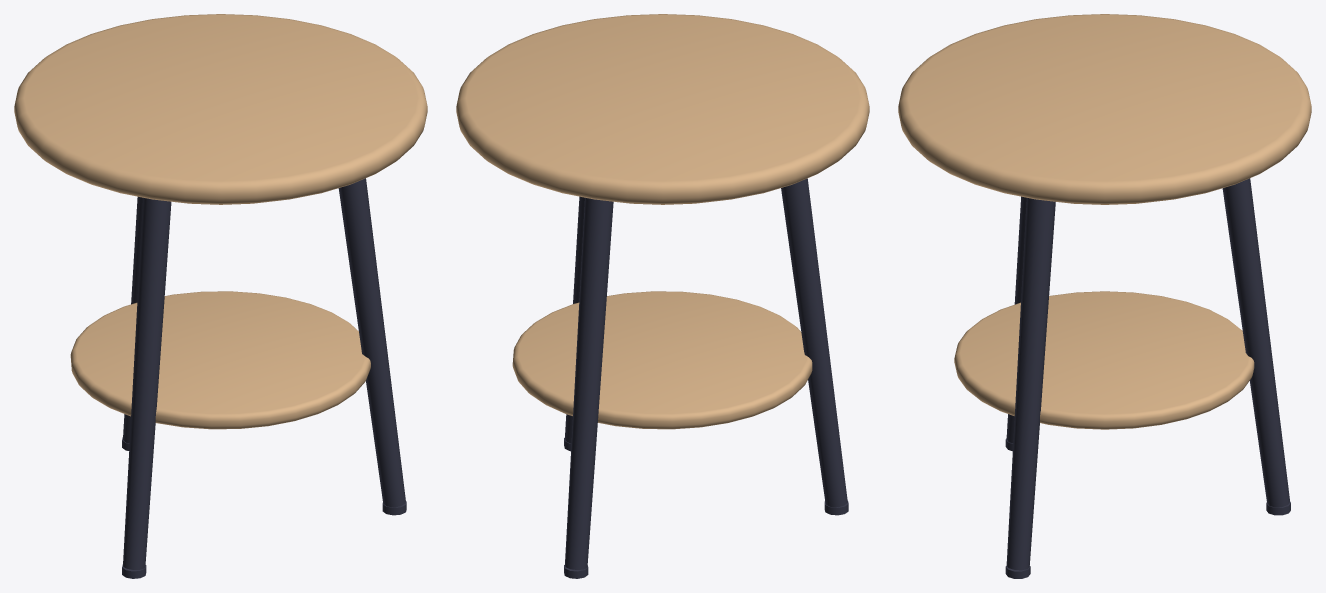
The model's file is side_table.glb.
The picture shows the model from 3 angles, left to right: view 1: azimuth 30°, elevation 25°; view 2: azimuth 150°, elevation 25°; view 3: azimuth 270°, elevation 25°; orthographic projection.
Parts seen in each view (by area): view 1: oak, charcoal; view 2: oak, charcoal; view 3: oak, charcoal.
Part boxes in pixels (x1,y1,x2,y2): oak: [14, 14, 427, 429]; charcoal: [122, 178, 406, 578]; oak: [456, 14, 869, 429]; charcoal: [564, 178, 848, 578]; oak: [898, 14, 1311, 429]; charcoal: [1005, 178, 1290, 578].
Size of the model in its own units: 0.5 by 0.55 by 0.5.
